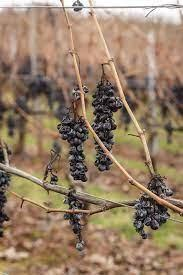Grape Rotten: (91, 77, 123, 172), (132, 176, 174, 239), (57, 106, 89, 182)
